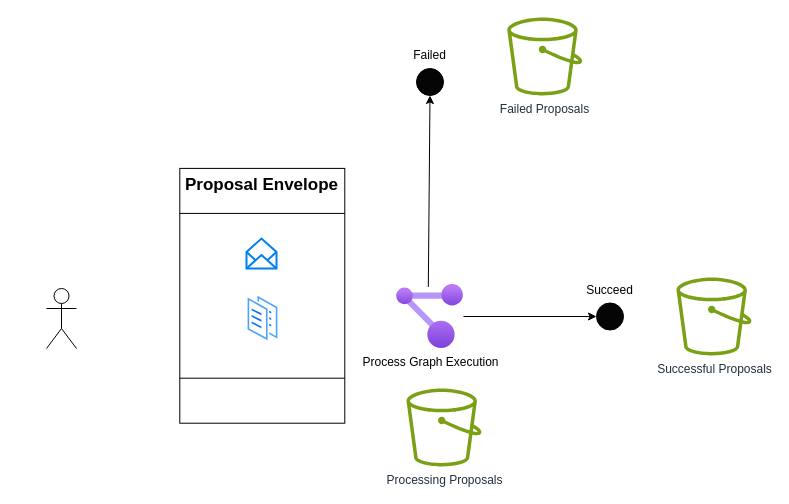
The diagram is 789 pixels wide and 504 high, and some of its shapes have lost their labels. Here are the shapes that lost their labels. From the top down, the centre of each, then its label:
point 261,253: Process Graph
point 61,318: Proposal Writers
point 262,318: Proposal Documentation
